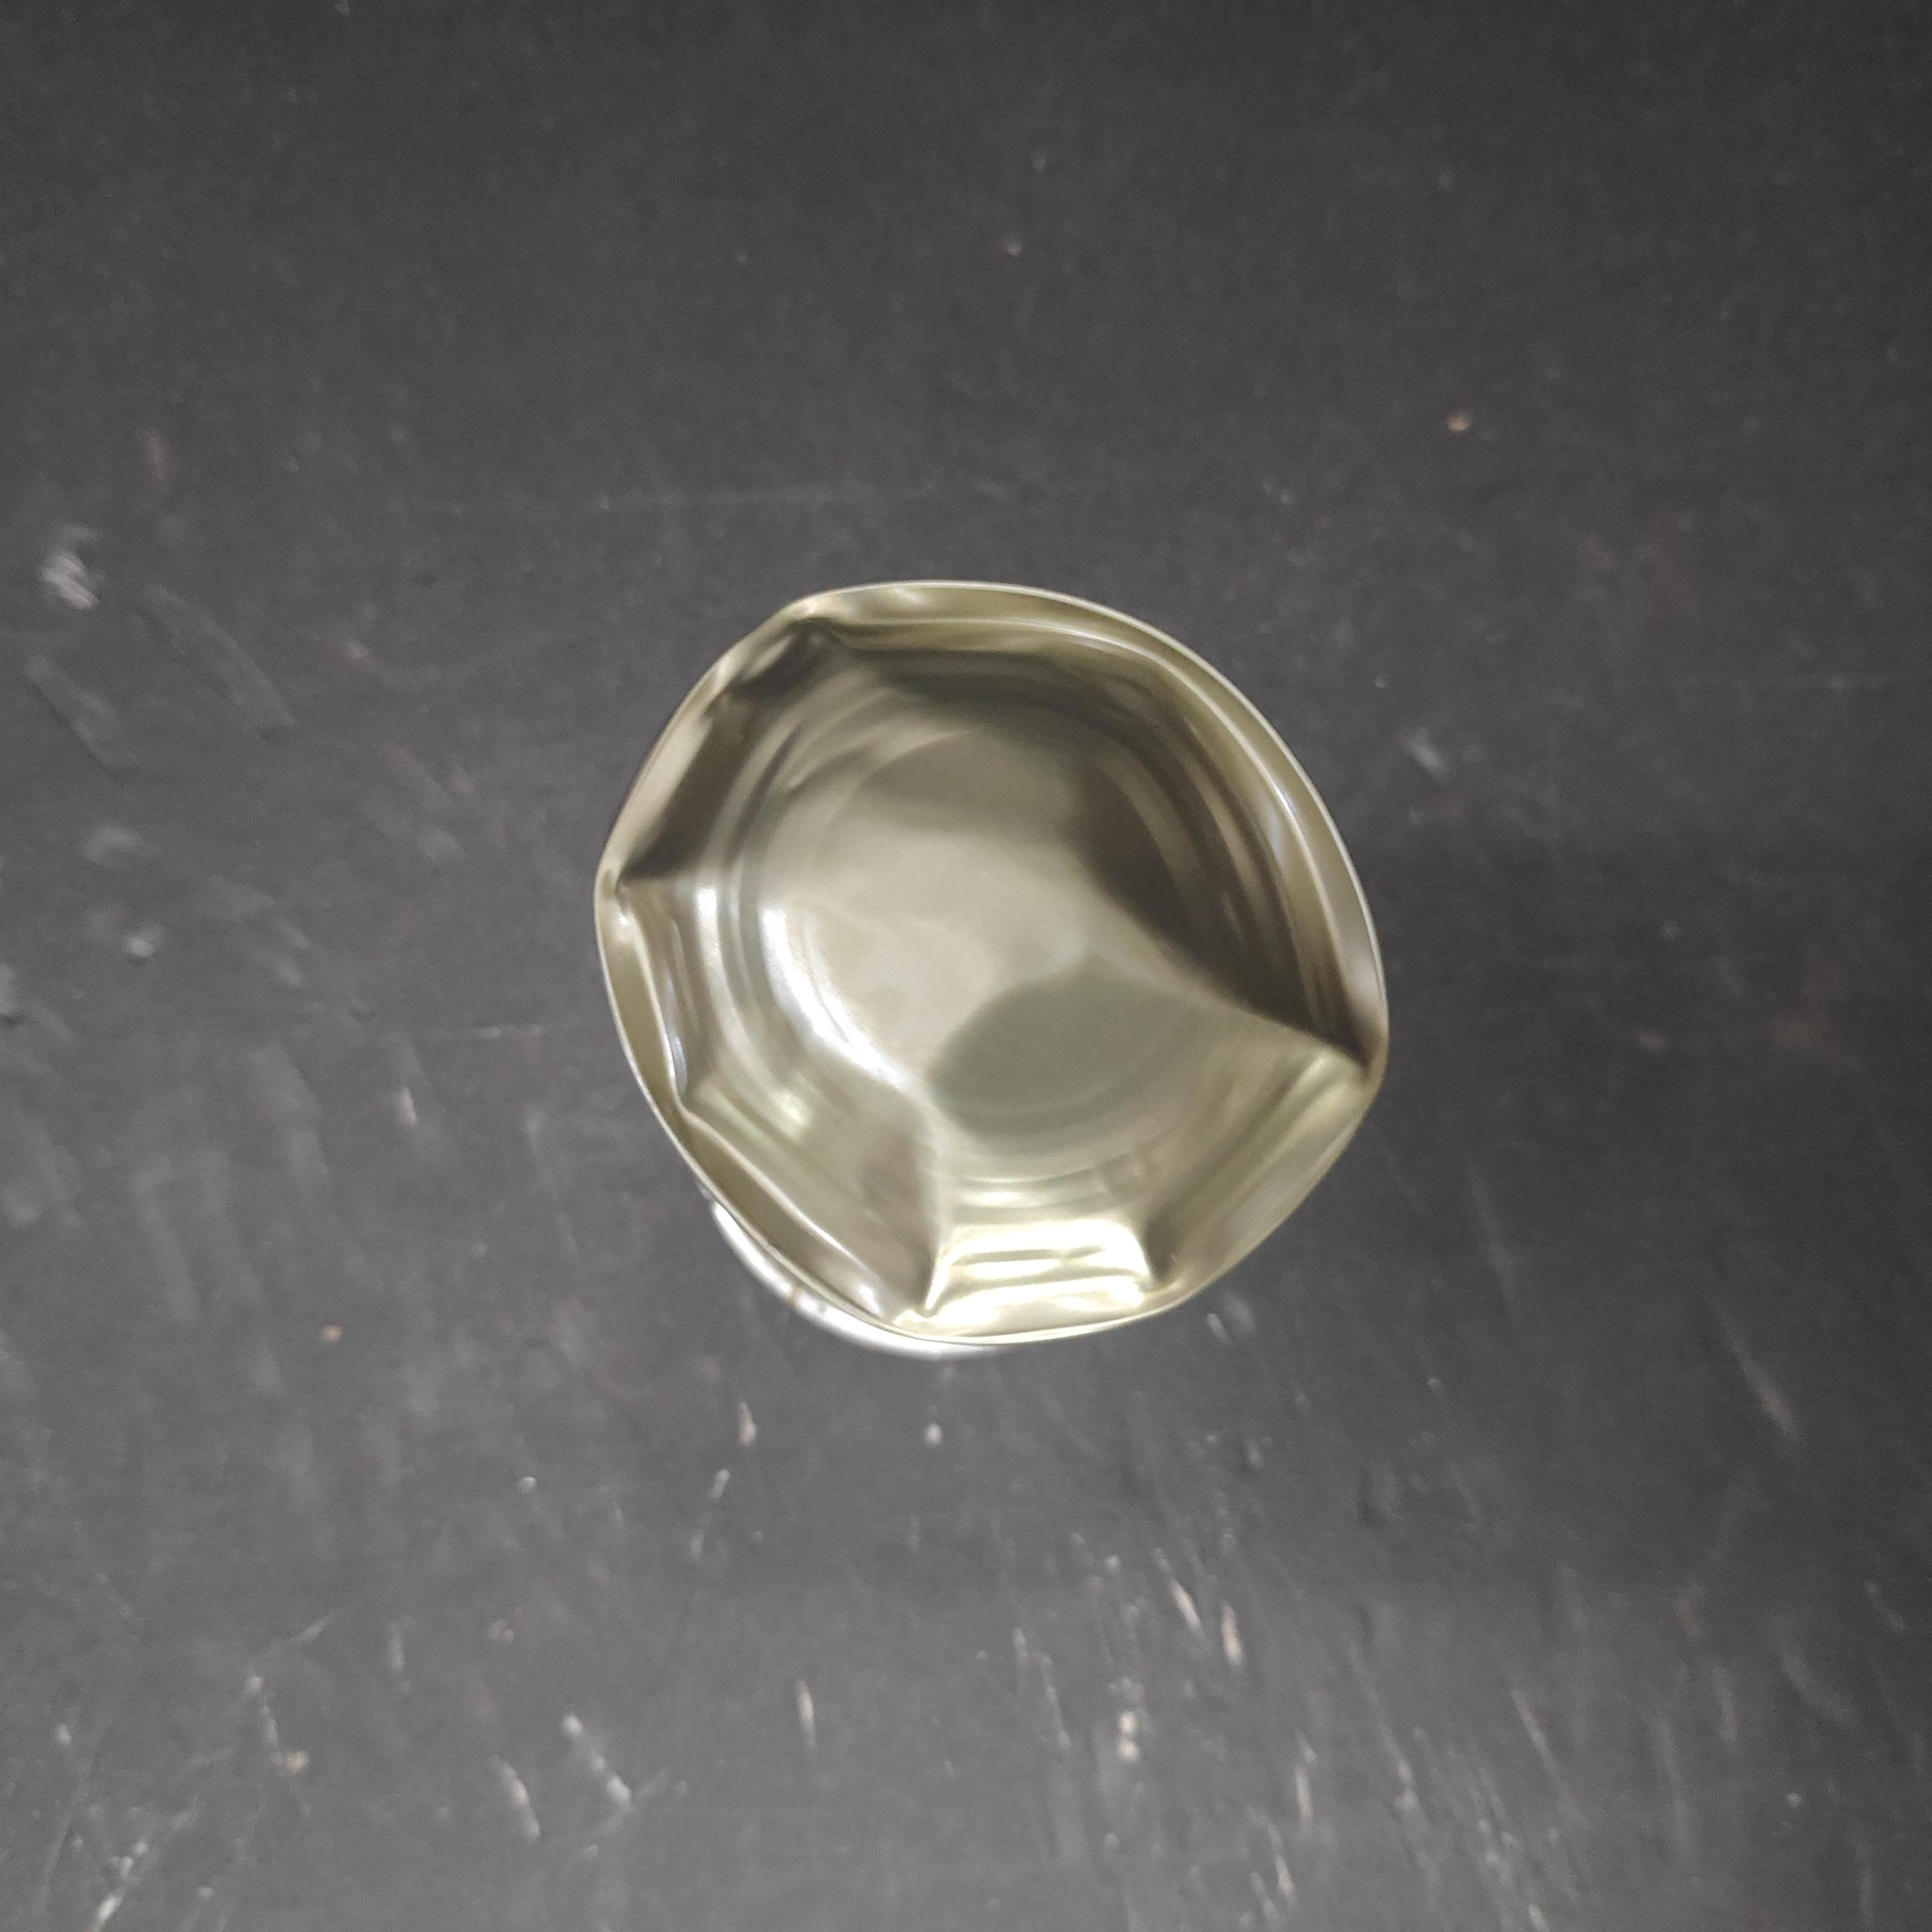Critical Defect: (577, 582, 1361, 1399)
